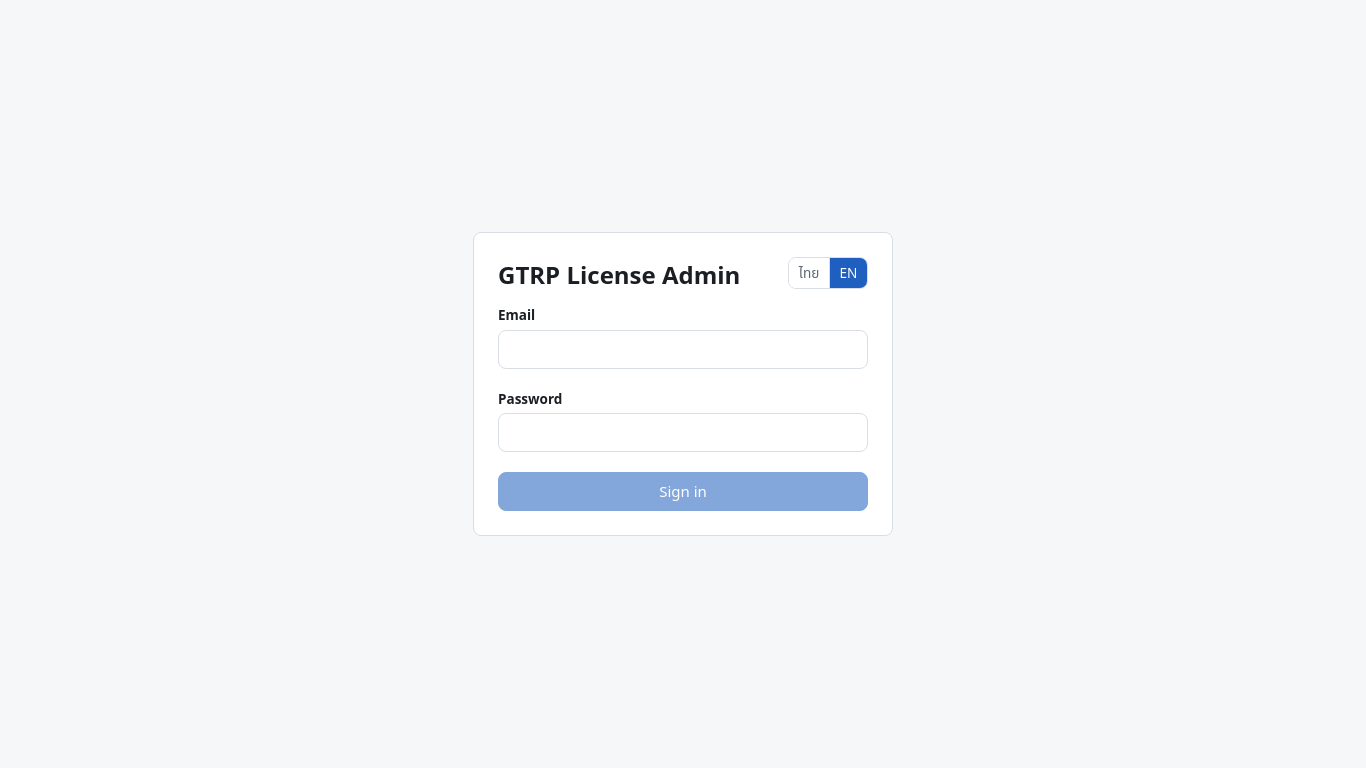
Test: login › asks for the TOTP code when the server requires MFA
Type "admin@gtrp.test" into the field labelled "Email".
click(683, 349); type("admin@gtrp.test")  # box [498,330,868,369]
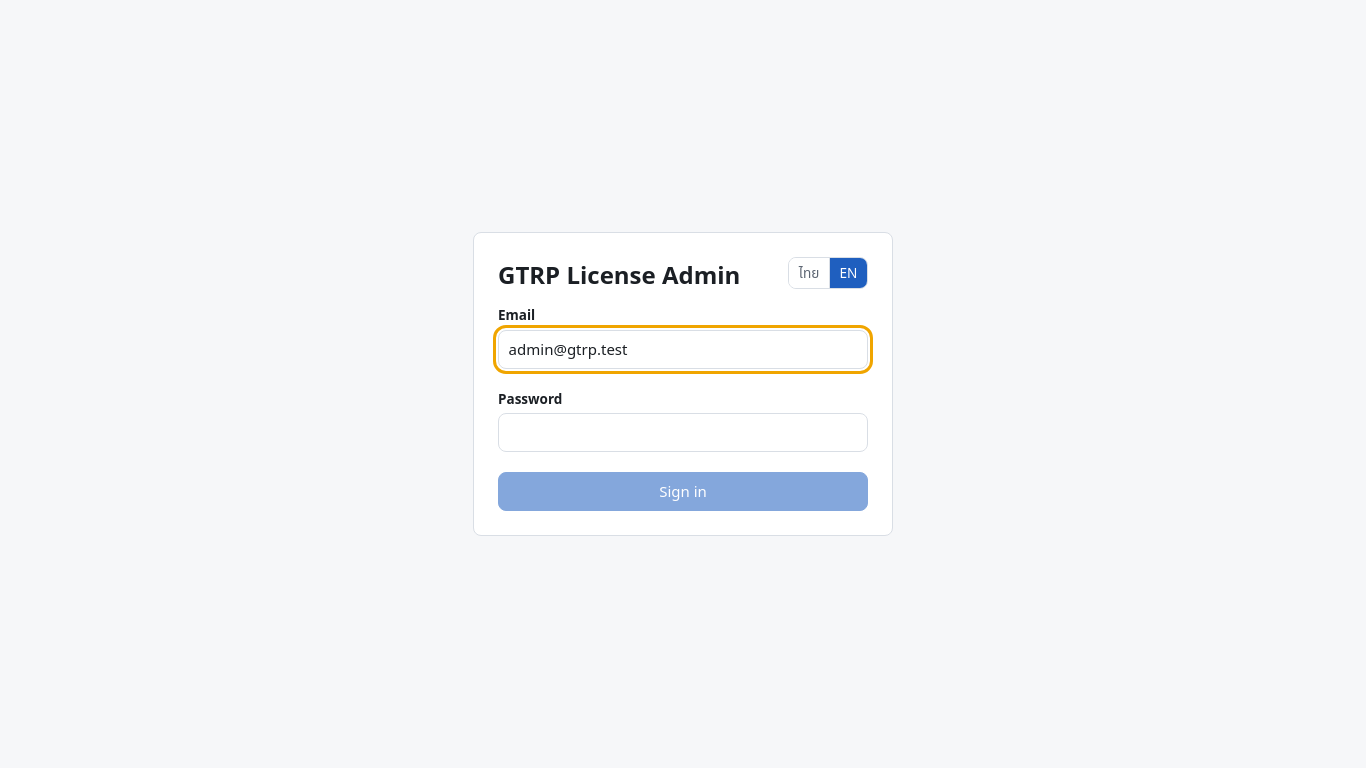
Type "correct horse battery" into the password field labelled "Password".
click(683, 432); type("correct horse battery")  # box [498,413,868,452]
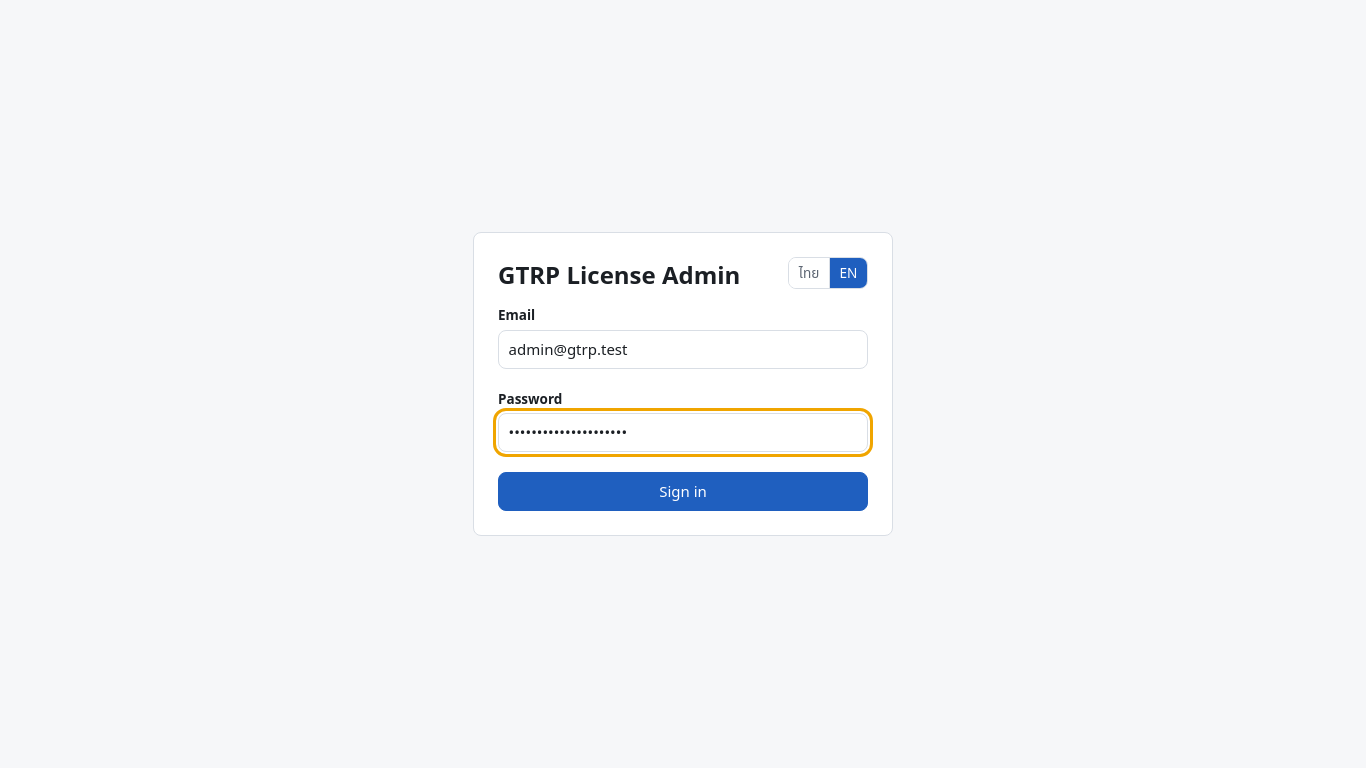
Click the button "Sign in".
click(683, 491)  # box [498,472,868,511]
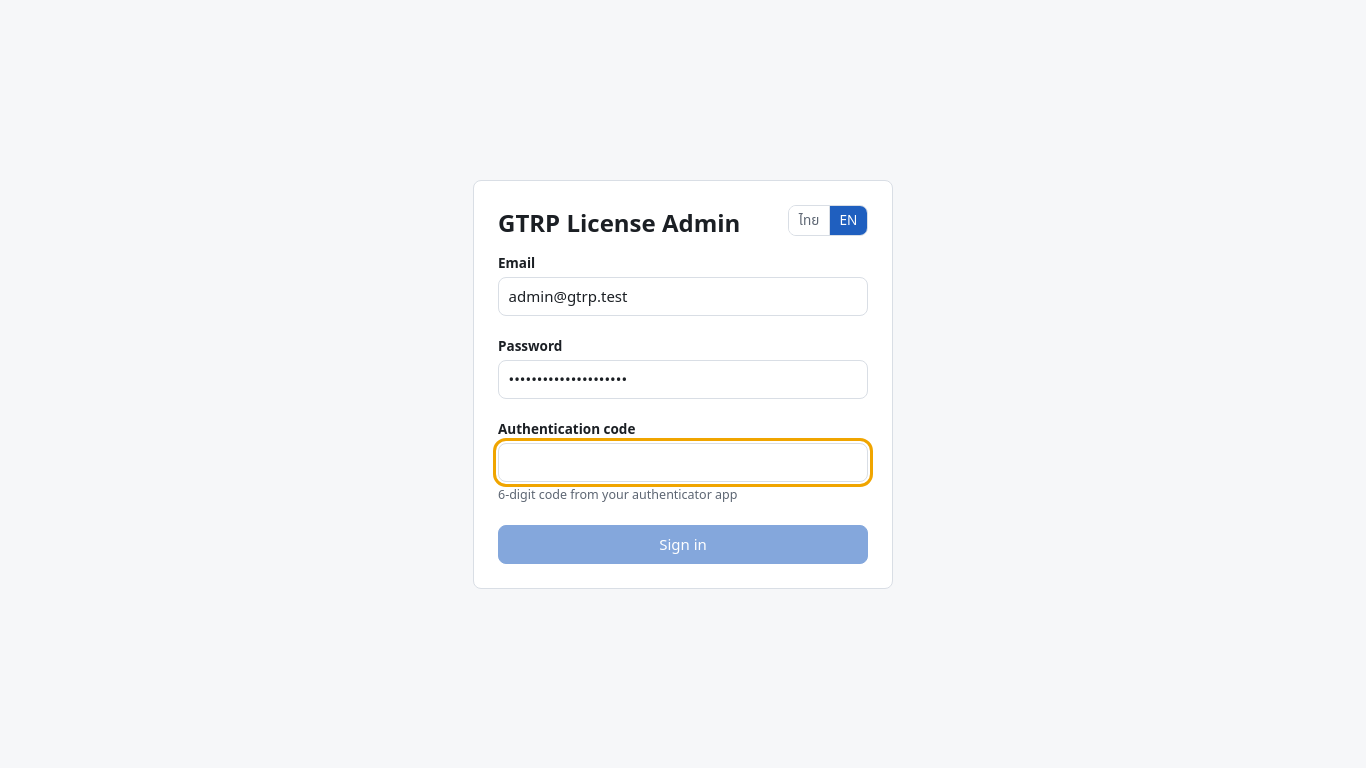
Type "123456" into the field labelled "Authentication code 6-digit code from your authenticator app".
click(683, 462); type("123456")  # box [498,443,868,482]
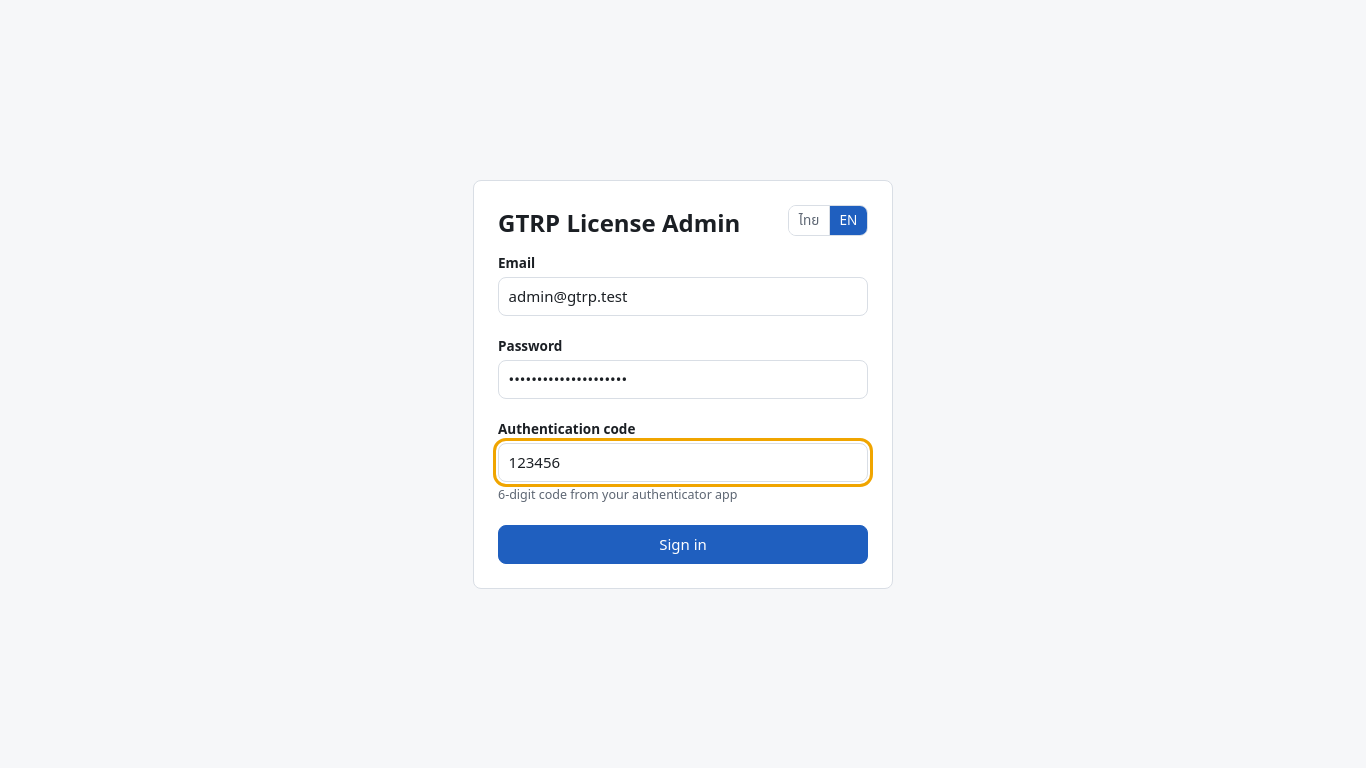
Click the button "Sign in".
click(683, 544)  # box [498,525,868,564]
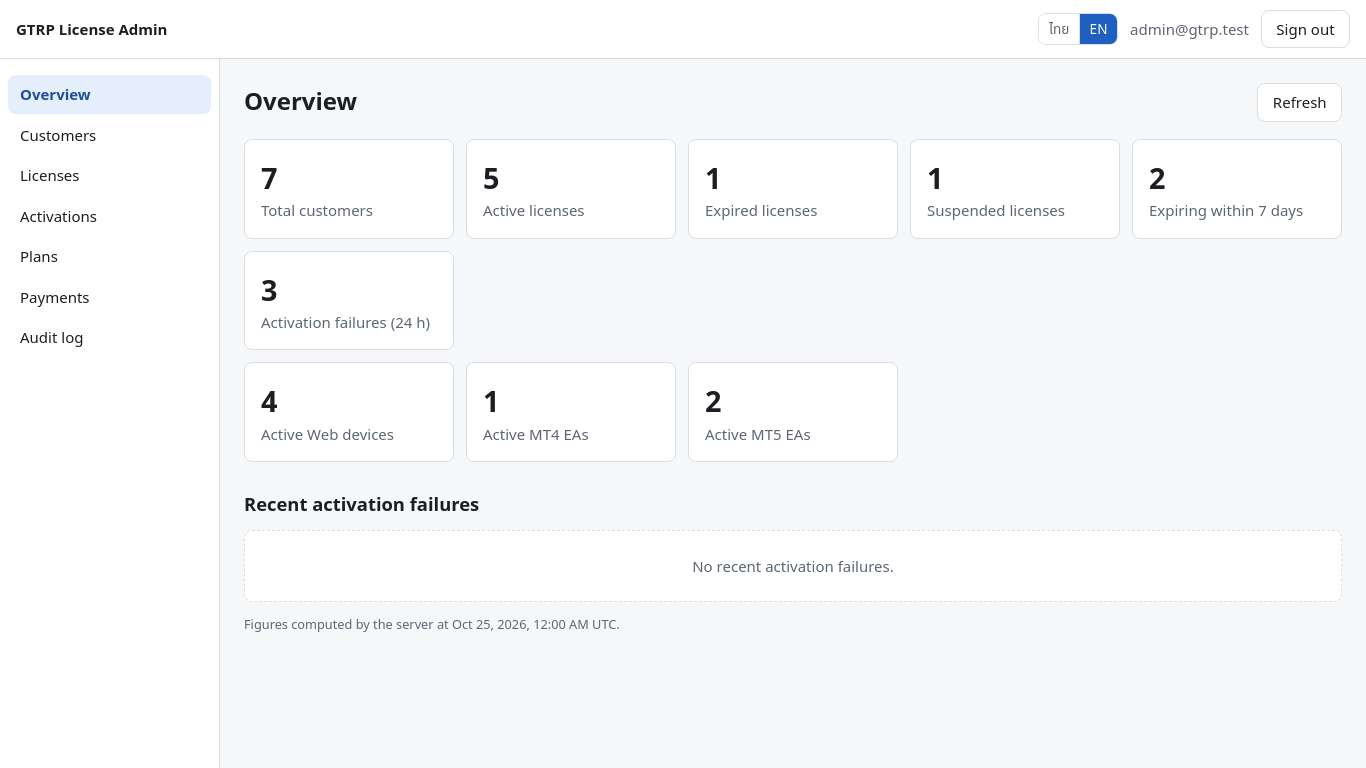
Expected: the text "Total customers" is shown, [261,200,373,220]
Expected: the text "7" is shown, [261,158,278,197]
